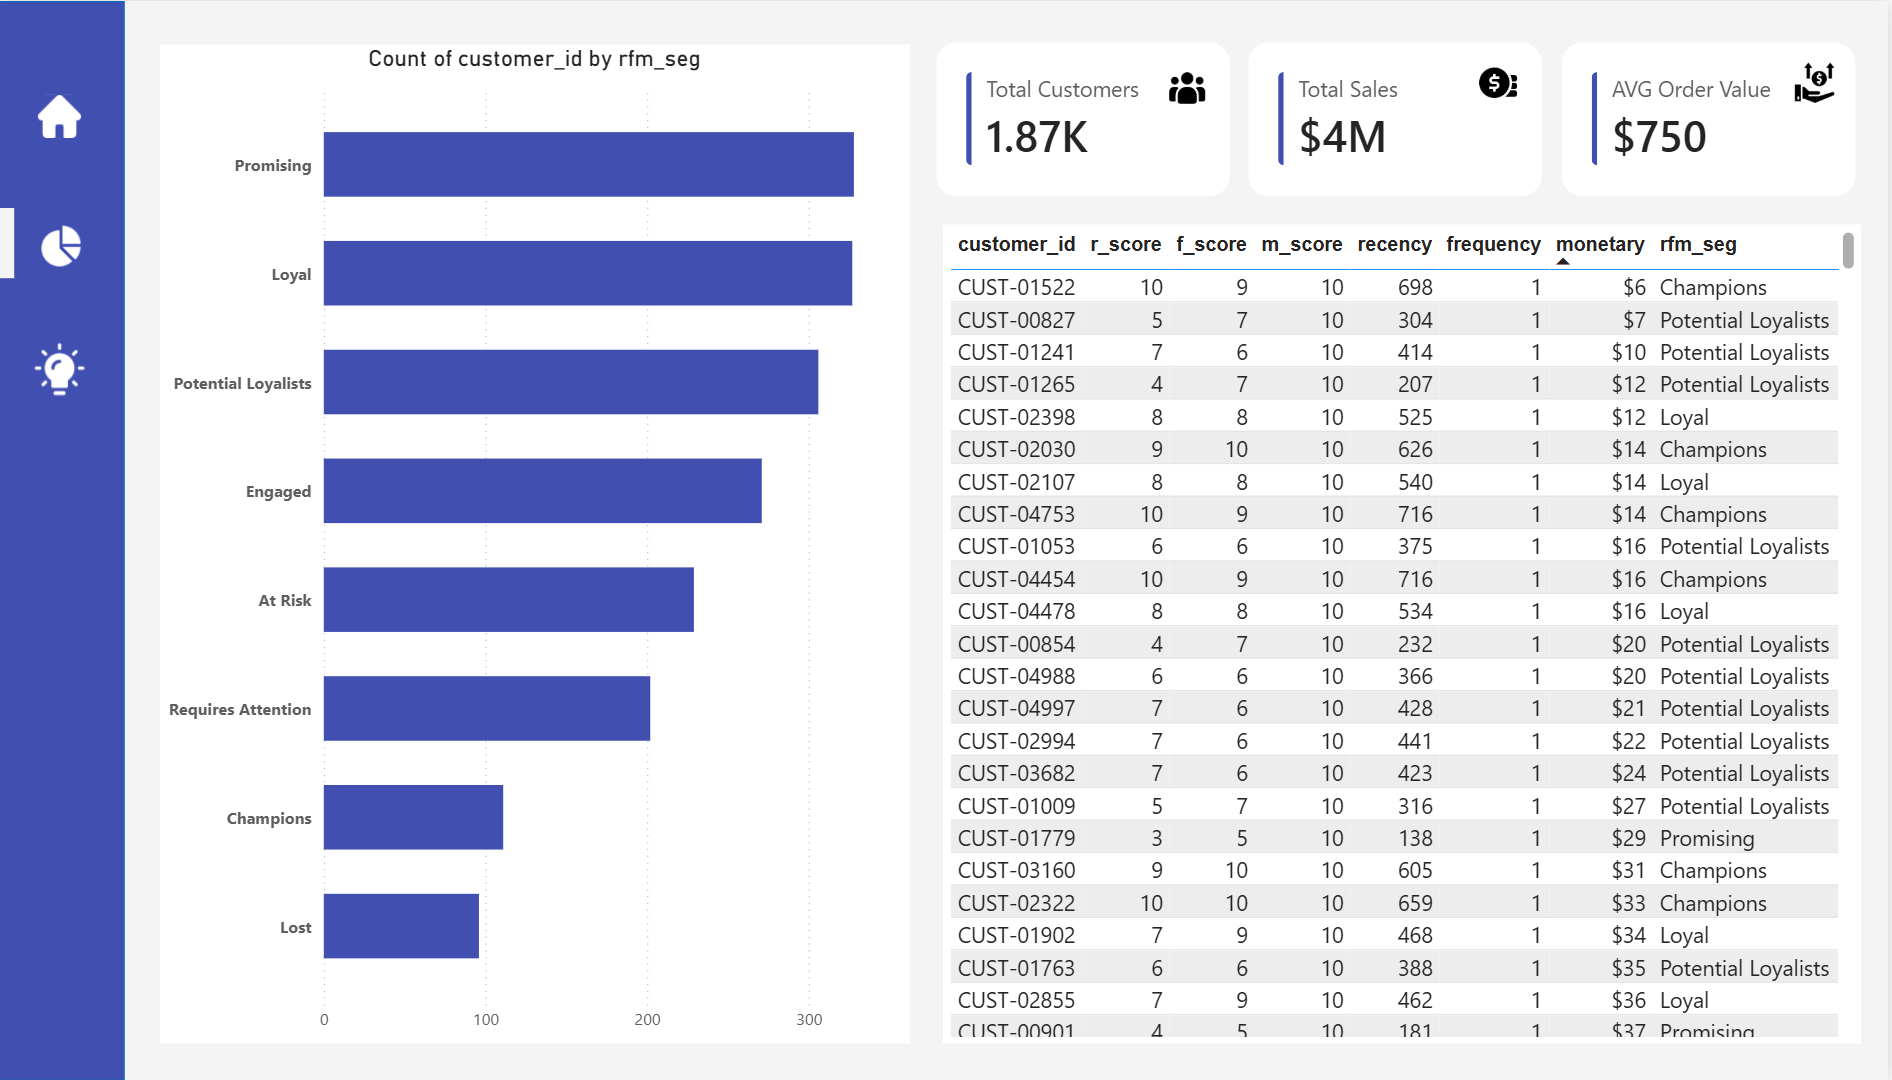

The dashboard page shown, as its layout file describes it:
{"tool":"powerbi","page":{"name":"RFM","canvas":[1400,800],"ordinal":1},"visuals":[{"type":"barChart","fields":{"Y":["CountNonNull(rfm_seg.customer_id)"],"Category":["rfm_seg.rfm_seg"]},"box":[120,31.7,555,740],"z":0},{"type":"tableEx","fields":{"Values":["rfm_seg.customer_id","rfm_seg.r_score","rfm_seg.f_score","rfm_seg.m_score","rfm_seg.recency","rfm_seg.frequency","rfm_seg.monetary","rfm_seg.rfm_seg"]},"box":[700,165,680,606.2],"z":1000},{"type":"cardVisual","title":"AVG Order Value","fields":{"Data":["Avg(general_seg.order_value_usd)"]},"box":[1157.2,29.5,218.8,115],"z":2000},{"type":"cardVisual","fields":{"Data":["Count(general_seg.customer_id)"]},"box":[694.3,29.5,218.8,115],"z":3000},{"type":"image","box":[861.9,51.1,36.7,26.7],"z":4000},{"type":"image","box":[1326.4,45.6,37.8,30],"z":5000},{"type":"cardVisual","title":"AVG Order Value","fields":{"Data":["Sum(general_seg.order_value_usd)"]},"box":[925,29.5,218.8,115],"z":6000},{"type":"image","box":[1091.9,45.6,37.8,30],"z":7000},{"type":"shape","box":[0,0,93.8,800],"z":8000},{"type":"actionButton","box":[26.2,156.1,40,52.5],"z":9000},{"type":"actionButton","box":[26,65.8,41,40],"z":10000},{"type":"actionButton","box":[20,237.3,51.2,70],"z":11000},{"type":"shape","box":[0,153.3,12.2,52.2],"z":12000}]}

Visuals, with their boxes on the page's 1400x800 design canvas (x1, y1, x2, y2). These are canvas units, not pixel positions in the 1892x1080 screenshot, which may show the page scaled, cropped or inside an application window:
barChart - CountNonNull(rfm_seg.customer_id) x rfm_seg.rfm_seg: box(120, 32, 675, 772)
tableEx - rfm_seg.customer_id x rfm_seg.r_score: box(700, 165, 1380, 771)
"AVG Order Value" cardVisual: box(1157, 30, 1376, 144)
cardVisual - Count(general_seg.customer_id): box(694, 30, 913, 144)
image: box(862, 51, 899, 78)
image: box(1326, 46, 1364, 76)
"AVG Order Value" cardVisual: box(925, 30, 1144, 144)
image: box(1092, 46, 1130, 76)
shape: box(0, 0, 94, 800)
actionButton: box(26, 156, 66, 209)
actionButton: box(26, 66, 67, 106)
actionButton: box(20, 237, 71, 307)
shape: box(0, 153, 12, 206)
